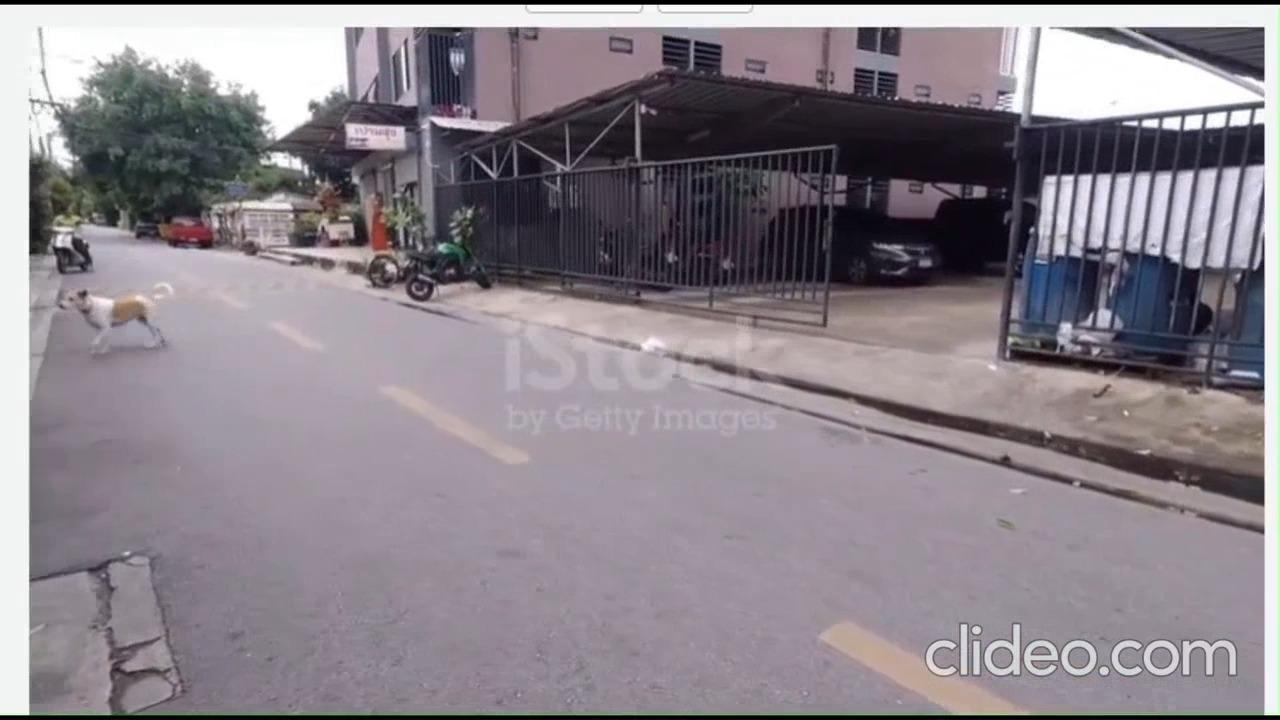dog: (59, 279, 178, 351)
